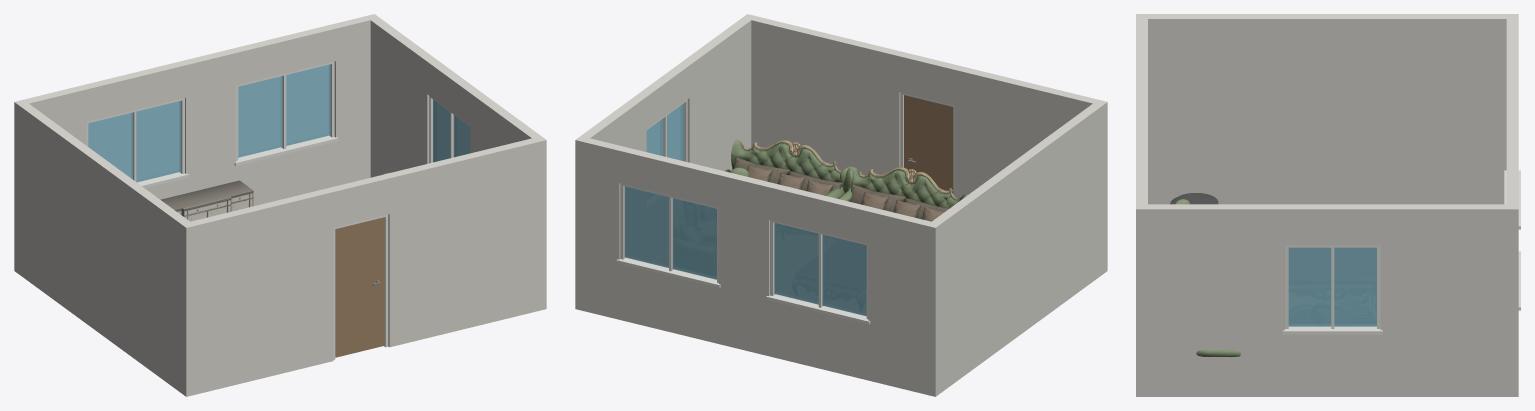
File: atiss.glb
The picture shows the model from 3 angles, left to right: view 1: azimuth 30°, elevation 25°; view 2: azimuth 150°, elevation 25°; view 3: azimuth 270°, elevation 25°; orthographic projection. The views are drawn at different scales.
Parts seen in each view (by area): view 1: wall|scenesmith_007__R00|0, wall|scenesmith_007__R00|2, wall|scenesmith_007__R00|1, wall|scenesmith_007__R00|3, wall|scenesmith_007__R00|1 Window 0 | glazing, wall|scenesmith_007__R00|0 Door 0 | wood leaf, wall|scenesmith_007__R00|1 Window 0 | jamb, raw_model, wall|scenesmith_007__R00|3 Window 0 | glazing, wall|scenesmith_007__R00|0 Door 0 | jamb, wall|scenesmith_007__R00|3 Window 0 | jamb; view 2: wall|scenesmith_007__R00|1, wall|scenesmith_007__R00|2, wall|scenesmith_007__R00|0, wall|scenesmith_007__R00|3, wall|scenesmith_007__R00|1 Window 0 | glazing, raw_model.001, wall|scenesmith_007__R00|0 Door 0 | wood leaf, wall|scenesmith_007__R00|1 Window 0 | jamb, wall|scenesmith_007__R00|3 Window 0 | glazing, wall|scenesmith_007__R00|0 Door 0 | jamb, wall|scenesmith_007__R00|3 Window 0 | jamb; view 3: wall|scenesmith_007__R00|2, wall|scenesmith_007__R00|3, wall|scenesmith_007__R00|3 Window 0 | glazing, wall|scenesmith_007__R00|1, wall|scenesmith_007__R00|0, wall|scenesmith_007__R00|3 Window 0 | jamb, wall|scenesmith_007__R00|1 Window 0 | jamb, solid, raw_model.001.
Boxes of the visible parts, <box> form: wall|scenesmith_007__R00|0: <box>181,136,545,394</box>; wall|scenesmith_007__R00|2: <box>15,99,195,396</box>; wall|scenesmith_007__R00|1: <box>14,16,370,274</box>; wall|scenesmith_007__R00|3: <box>365,14,546,311</box>; wall|scenesmith_007__R00|1 Window 0 | glazing: <box>88,64,330,182</box>; wall|scenesmith_007__R00|0 Door 0 | wood leaf: <box>335,217,384,357</box>; wall|scenesmith_007__R00|1 Window 0 | jamb: <box>86,61,338,188</box>; raw_model: <box>160,180,253,221</box>; wall|scenesmith_007__R00|3 Window 0 | glazing: <box>433,99,470,162</box>; wall|scenesmith_007__R00|0 Door 0 | jamb: <box>333,214,388,359</box>; wall|scenesmith_007__R00|3 Window 0 | jamb: <box>429,96,470,163</box>; wall|scenesmith_007__R00|1: <box>584,138,940,396</box>; wall|scenesmith_007__R00|2: <box>926,102,1107,396</box>; wall|scenesmith_007__R00|0: <box>742,14,1106,199</box>; wall|scenesmith_007__R00|3: <box>575,18,751,311</box>; wall|scenesmith_007__R00|1 Window 0 | glazing: <box>624,186,866,316</box>; raw_model.001: <box>724,140,967,221</box>; wall|scenesmith_007__R00|0 Door 0 | wood leaf: <box>904,95,953,193</box>; wall|scenesmith_007__R00|1 Window 0 | jamb: <box>616,183,870,324</box>; wall|scenesmith_007__R00|3 Window 0 | glazing: <box>646,103,683,161</box>; wall|scenesmith_007__R00|0 Door 0 | jamb: <box>900,92,954,196</box>; wall|scenesmith_007__R00|3 Window 0 | jamb: <box>646,99,687,161</box>; wall|scenesmith_007__R00|2: <box>1148,14,1518,204</box>; wall|scenesmith_007__R00|3: <box>1148,204,1518,396</box>; wall|scenesmith_007__R00|3 Window 0 | glazing: <box>1288,247,1376,326</box>; wall|scenesmith_007__R00|1: <box>1506,19,1518,396</box>; wall|scenesmith_007__R00|0: <box>1136,14,1147,396</box>; wall|scenesmith_007__R00|3 Window 0 | jamb: <box>1282,245,1382,334</box>; wall|scenesmith_007__R00|1 Window 0 | jamb: <box>1504,170,1520,310</box>; solid: <box>1170,193,1218,204</box>; raw_model.001: <box>1175,199,1240,357</box>.
Size of the model in its own units: 5.83 by 2.61 by 4.83.
Materials: 11 (5 with a texture image).
